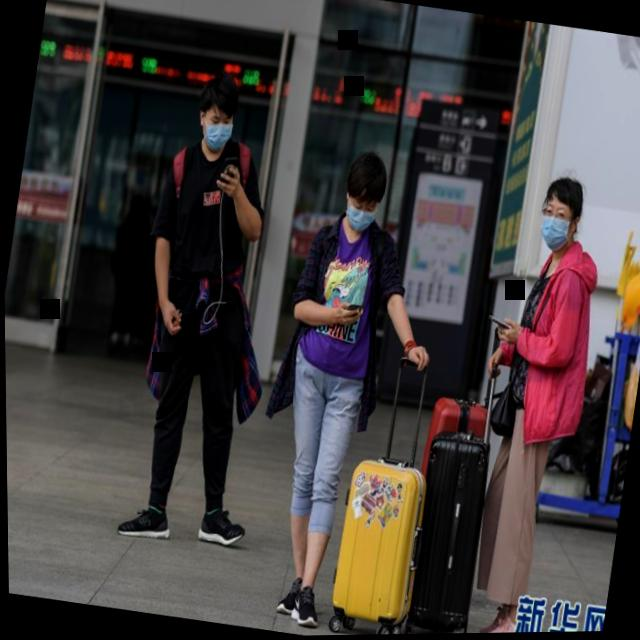Mask: (184, 68, 245, 166), (333, 145, 393, 244), (528, 165, 589, 261)
